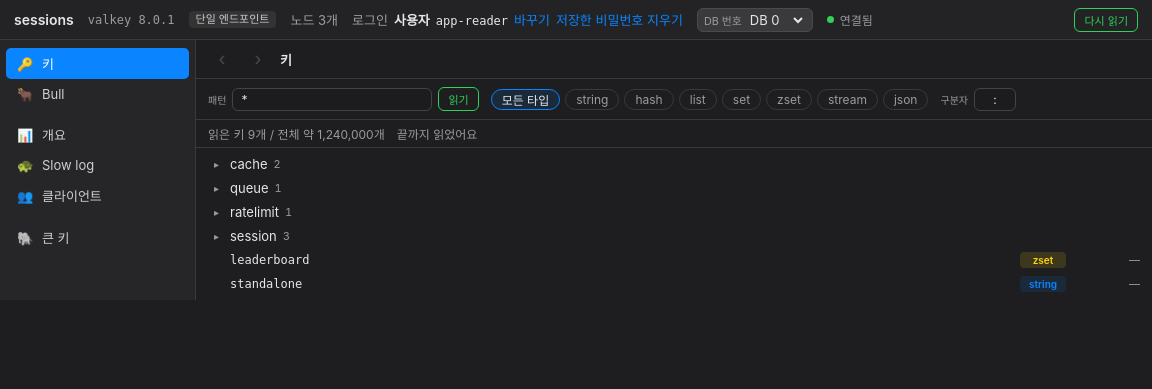
Scenario: keys › a key opens its value in the detail on the right, with the common facts
What coordinates should you click on to do the following:
click the list item "▸ cache 2"
I would click on:
 (247, 164)
Its box is [214, 156, 281, 172].
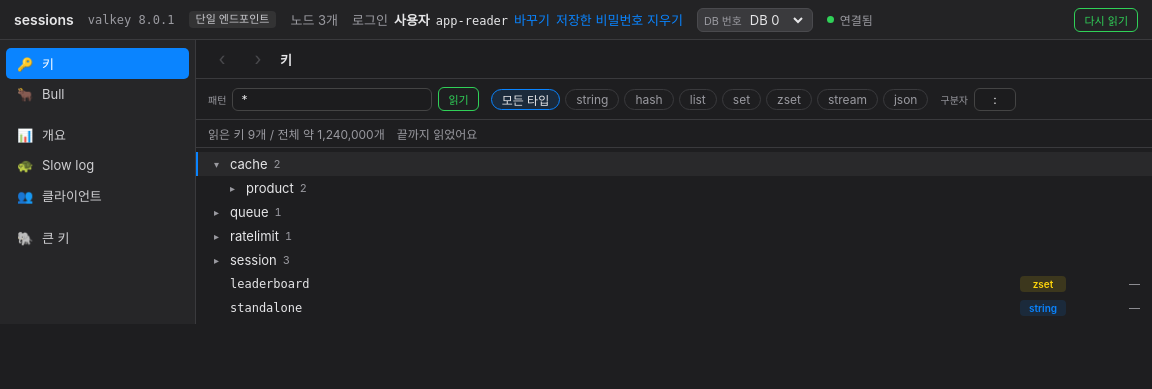
What coordinates should you click on to do the following:
click the list item "▸ product 2"
I would click on:
 (268, 188)
Its box is [230, 180, 307, 196].
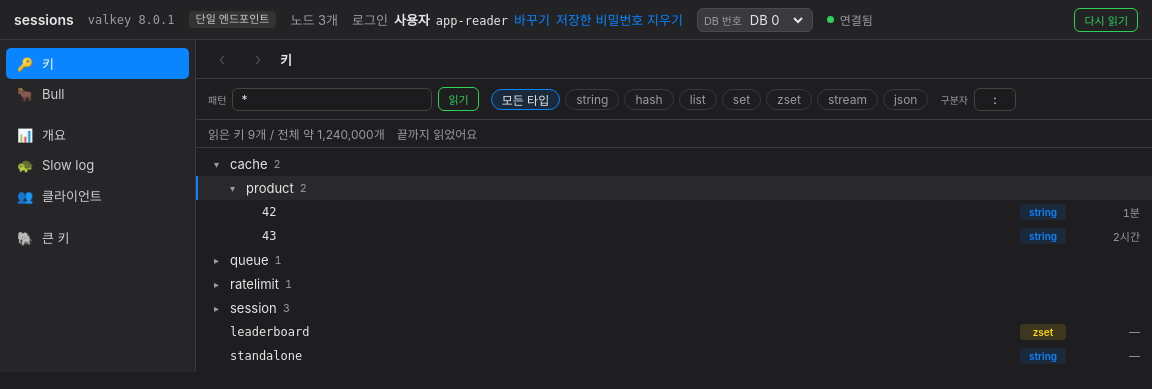
What coordinates should you click on to do the following:
click the list item "42 string 1분"
I would click on:
 (1043, 212)
Its box is [196, 200, 1151, 224].
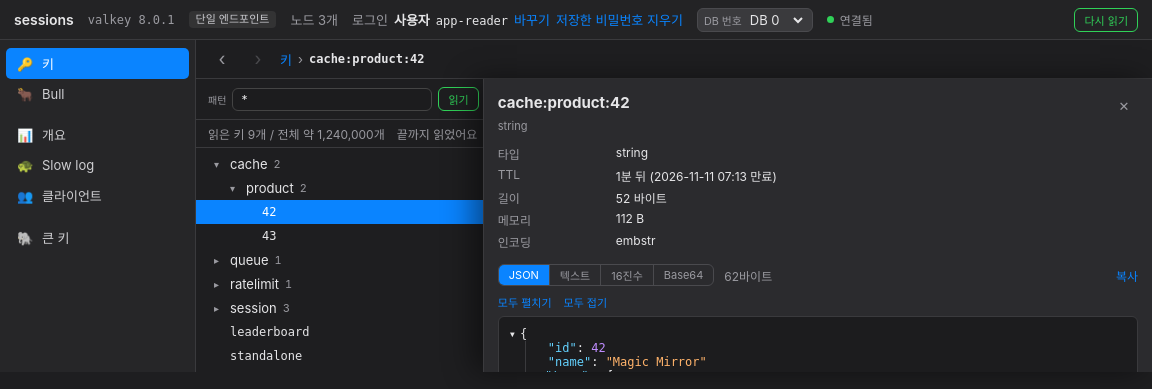
Now the heading "cache:product:42" is shown, box [498, 93, 630, 112]
Now the text "embstr" is shown, box [616, 233, 655, 248]
Now the text "52 바이트" is shown, box [616, 191, 667, 206]
What coordinates should you click on to do the following:
click the button named "닫기"
I would click on:
 (1124, 106)
Its box is [1110, 93, 1138, 119].
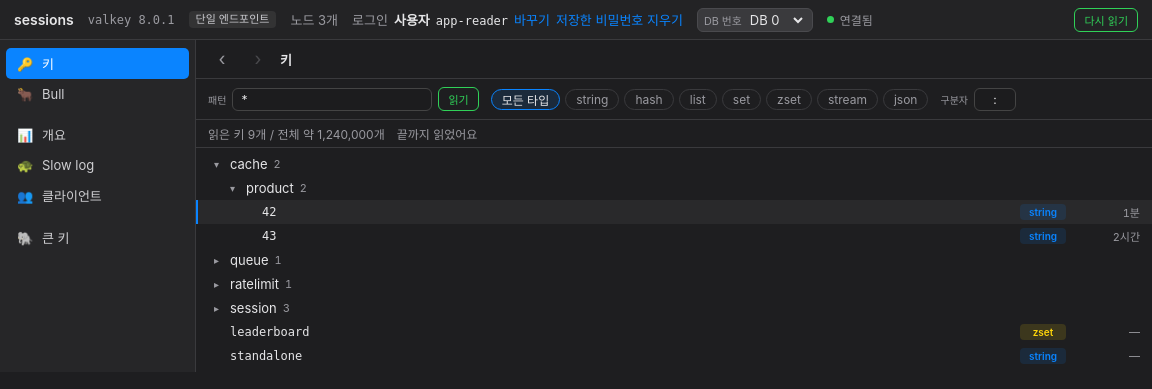
Now the element "상세" is gone
